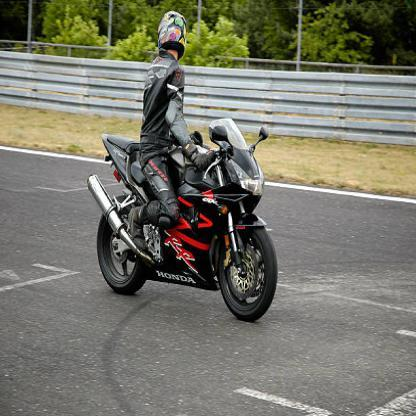Motorcycle: (86, 111, 288, 330)
